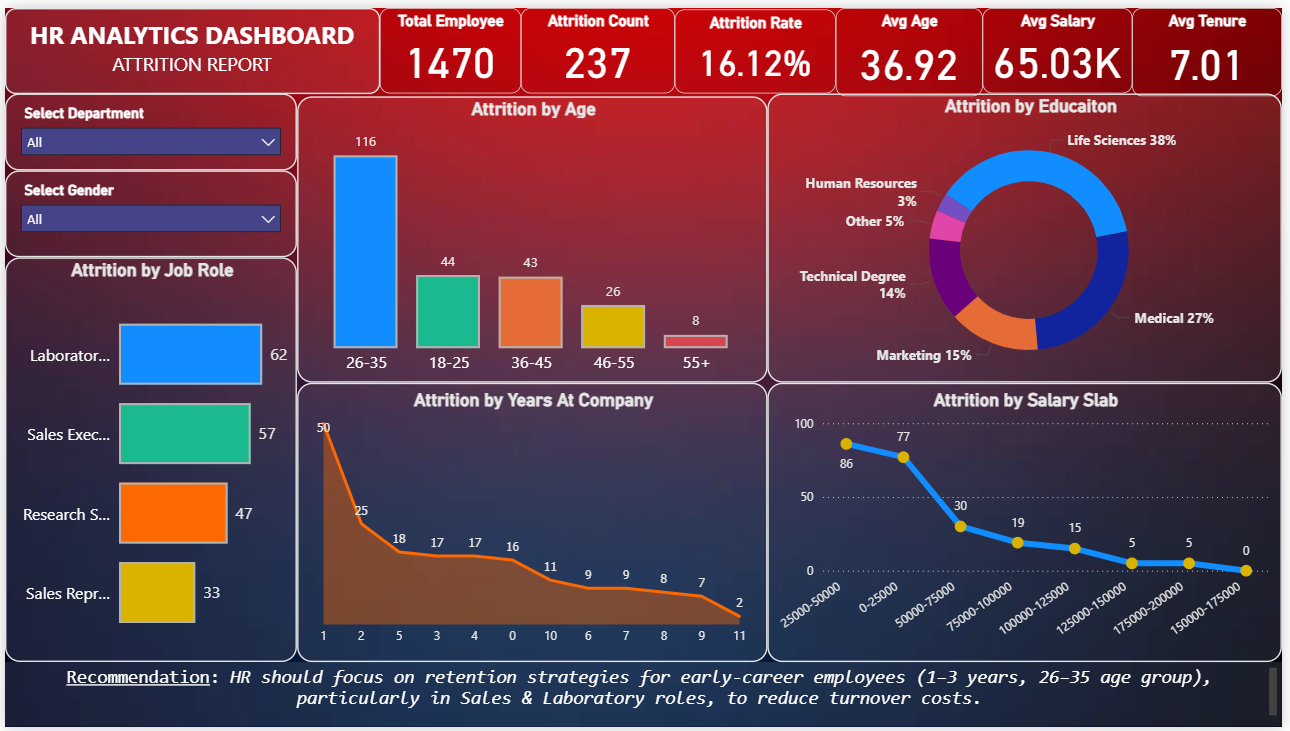

The dashboard page shown, as its layout file describes it:
{"tool":"powerbi","page":{"name":"Page 1","canvas":[1280,720],"ordinal":0},"visuals":[{"type":"card","title":"Total Employee","fields":{"Values":["CountNonNull(HR_Analytics.EmpID)"]},"box":[375.7,0,141.4,85.7],"z":0},{"type":"card","title":"Avg Age","fields":{"Values":["Avg(HR_Analytics.Age)"]},"box":[832.9,0,147.1,88.6],"z":1000},{"type":"card","title":"Attrition Count","fields":{"Values":["Sum(HR_Analytics.AttritionCount)"]},"box":[517.1,0,154.3,85.7],"z":2000},{"type":"card","title":"Attrition Rate","fields":{"Values":["HR_Analytics.Attrition %"]},"box":[671.4,1.4,161.4,84.3],"z":3000},{"type":"card","title":"Avg Salary","fields":{"Values":["Avg(HR_Analytics.Custom)"]},"box":[980,0,150,85.7],"z":4000},{"type":"card","title":"Avg Tenure","fields":{"Values":["Avg(HR_Analytics.YearsAtCompany)"]},"box":[1130,0,150,88.6],"z":5000},{"type":"donutChart","title":"Attrition by Educaiton","fields":{"Category":["HR_Analytics.EducationField"],"Y":["Sum(HR_Analytics.AttritionCount)"]},"box":[764.3,85.7,515.7,290],"z":6000},{"type":"columnChart","title":"Attrition by Age","fields":{"Category":["HR_Analytics.AgeGroup"],"Y":["Sum(HR_Analytics.AttritionCount)"]},"box":[292.9,88.6,471.4,287.1],"z":7000},{"type":"lineChart","title":"Attrition by Salary Slab","fields":{"Y":["Sum(HR_Analytics.AttritionCount)"],"Category":["HR_Analytics.Range"]},"box":[764.3,375.7,515.7,280],"z":9000},{"type":"clusteredBarChart","title":"Attrition by Job Role","fields":{"Category":["HR_Analytics.JobRole"],"Y":["Sum(HR_Analytics.AttritionCount)"]},"box":[0,250,292.9,405.7],"z":10000},{"type":"areaChart","title":"Attrition by Years At Company","fields":{"Category":["HR_Analytics.YearsAtCompany"],"Y":["Sum(HR_Analytics.AttritionCount)"]},"box":[292.9,375.7,471.4,280],"z":11000},{"type":"slicer","fields":{"Values":["HR_Analytics.Department"]},"box":[0,85.7,292.9,77.1],"z":13000},{"type":"textbox","box":[0,0,376.2,86.2],"z":13001},{"type":"slicer","fields":{"Values":["HR_Analytics.Gender"]},"box":[0,162.9,292.9,87.1],"z":13002},{"type":"textbox","box":[0,655.7,1280,64.3],"z":13003}]}

Visuals, with their boxes in screenshot pixels (x1, y1, x2, y2), scaled from the page's 1280x720 canvas onto the 1290x731 screenshot:
"Total Employee" card: left=379, top=0, right=521, bottom=87
"Avg Age" card: left=839, top=0, right=988, bottom=90
"Attrition Count" card: left=521, top=0, right=677, bottom=87
"Attrition Rate" card: left=677, top=1, right=839, bottom=87
"Avg Salary" card: left=988, top=0, right=1139, bottom=87
"Avg Tenure" card: left=1139, top=0, right=1289, bottom=90
"Attrition by Educaiton" donutChart: left=770, top=87, right=1289, bottom=381
"Attrition by Age" columnChart: left=295, top=90, right=770, bottom=381
"Attrition by Salary Slab" lineChart: left=770, top=381, right=1289, bottom=666
"Attrition by Job Role" clusteredBarChart: left=0, top=254, right=295, bottom=666
"Attrition by Years At Company" areaChart: left=295, top=381, right=770, bottom=666
slicer - HR_Analytics.Department: left=0, top=87, right=295, bottom=165
textbox: left=0, top=0, right=379, bottom=88
slicer - HR_Analytics.Gender: left=0, top=165, right=295, bottom=254
textbox: left=0, top=666, right=1289, bottom=730
